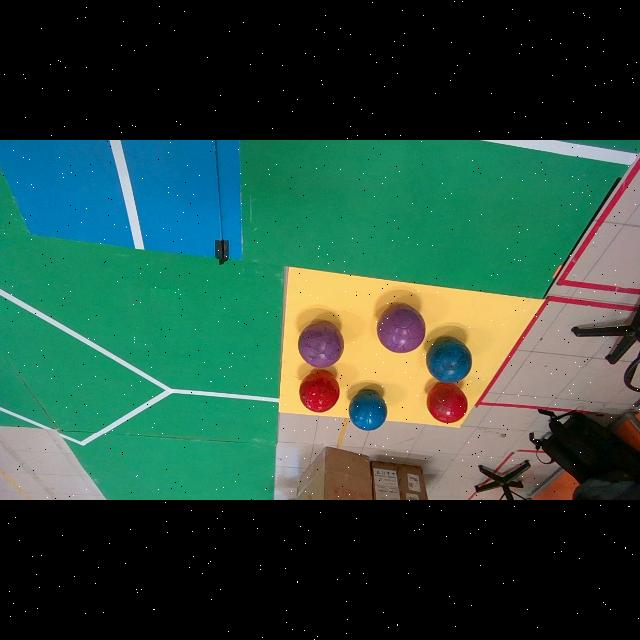B: (426, 338, 472, 383), (349, 390, 387, 431)
P: (377, 304, 426, 354), (298, 322, 344, 368)
R: (299, 370, 339, 413), (427, 384, 468, 423)
